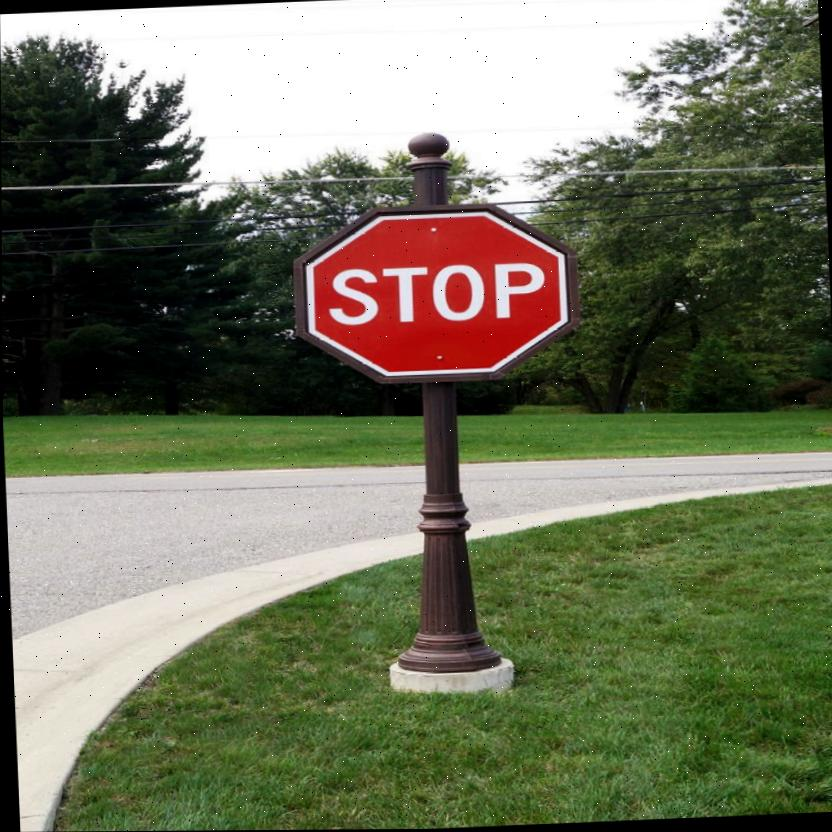Pole: (413, 378, 479, 671)
Sign: (312, 212, 563, 377)
